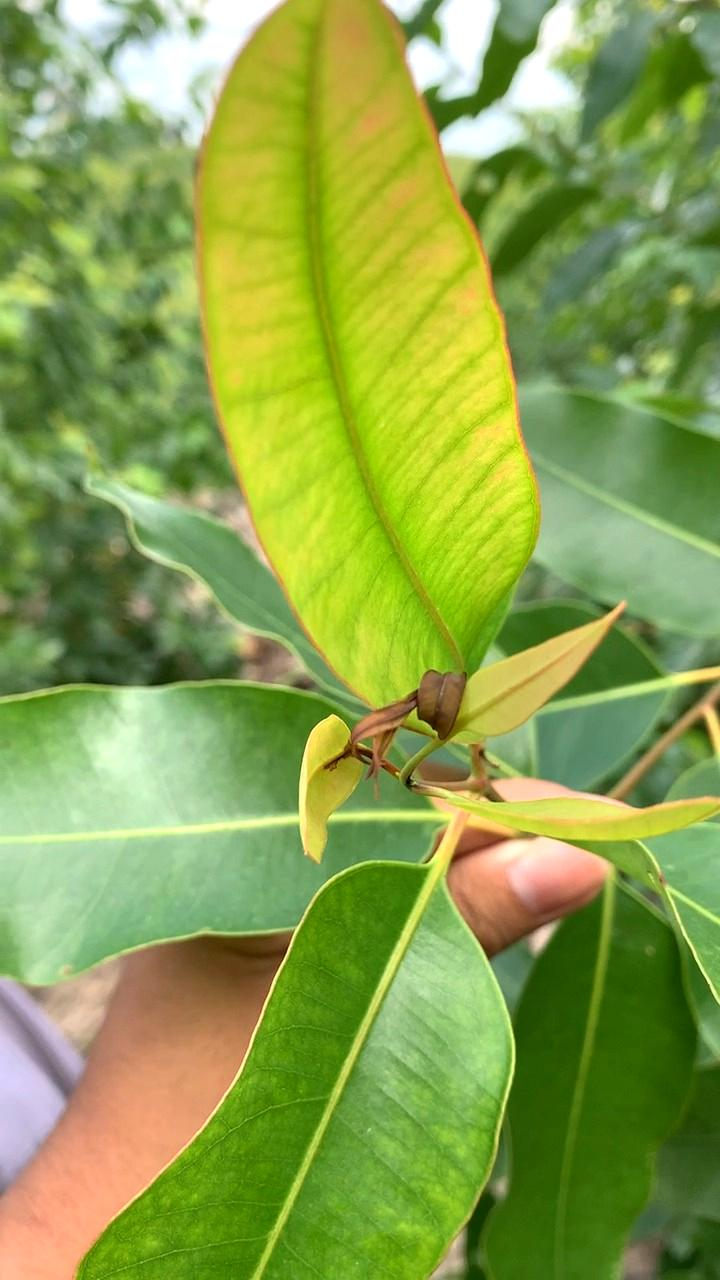Helopeltis-Withered Sprout: (348, 660, 469, 773)
